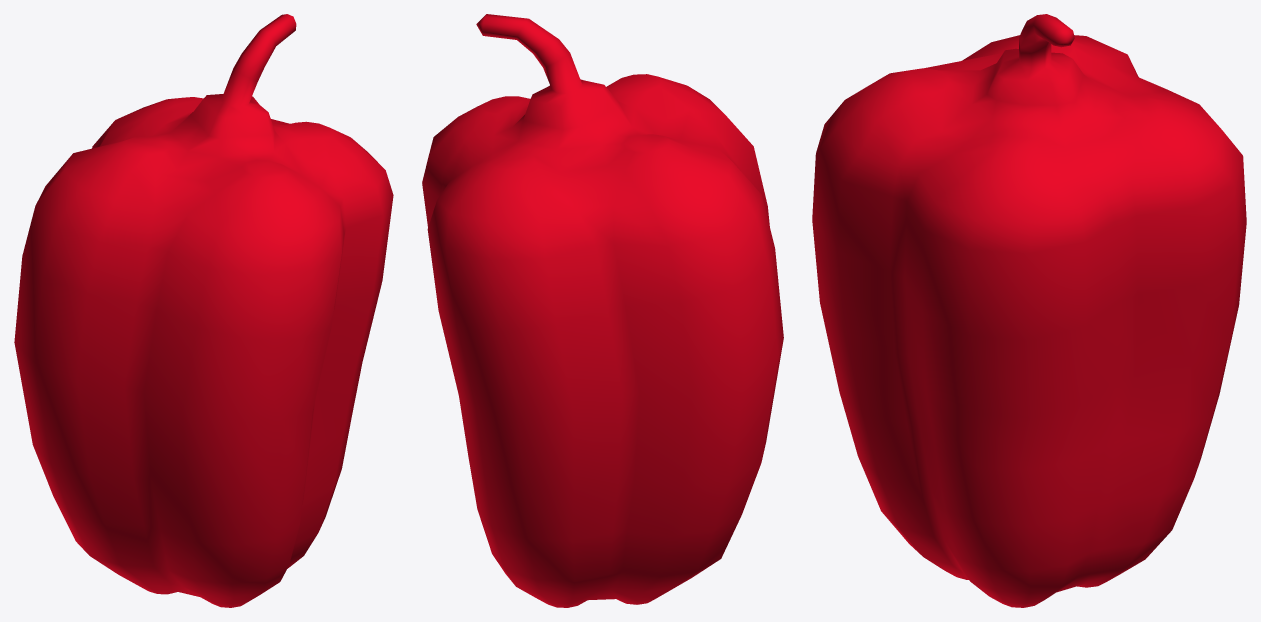
Rendered from peperone_rosso.fbx.
The picture shows the model from 3 angles, left to right: view 1: azimuth 30°, elevation 25°; view 2: azimuth 150°, elevation 25°; view 3: azimuth 270°, elevation 25°; orthographic projection. The views are drawn at different scales.
Visible parts, largest first — view 1: peperone_rosso; view 2: peperone_rosso; view 3: peperone_rosso.
Part boxes in pixels (x1,y1,x2,y2): peperone_rosso: (14,14,393,607); peperone_rosso: (422,14,783,607); peperone_rosso: (812,14,1246,607).
Size of the model in its own units: 266 by 403 by 263.
